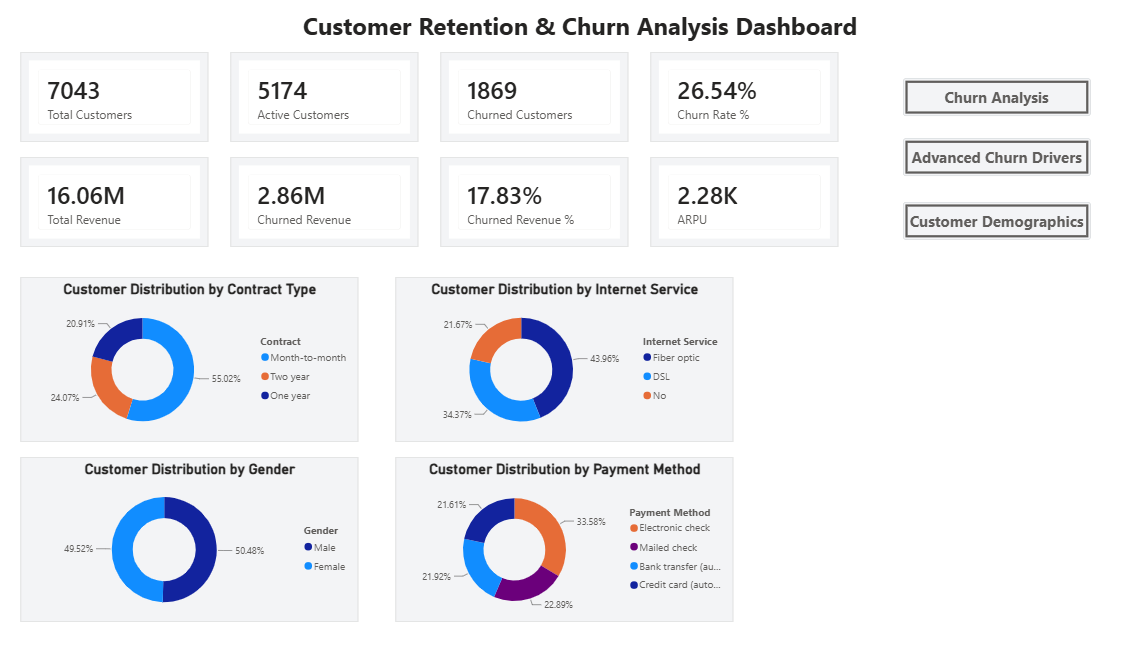

Layout of this report page (visuals, bound fields, positions):
{"tool":"powerbi","page":{"name":"Executive Overview","canvas":[1600,900],"ordinal":0},"visuals":[{"type":"cardVisual","fields":{"Data":["Measures (2).Total Customers"]},"box":[50,80,250,120],"z":0},{"type":"cardVisual","fields":{"Data":["Measures (2).Active Customers"]},"box":[330,80,250,120],"z":1000},{"type":"cardVisual","fields":{"Data":["Measures (2).Churned Customers"]},"box":[610,80,250,120],"z":2000},{"type":"cardVisual","fields":{"Data":["Measures (2).Churn Rate %"]},"box":[890,80,250,120],"z":3000},{"type":"cardVisual","fields":{"Data":["Measures (2).Total Revenue"]},"box":[50,220,250,120],"z":4000},{"type":"cardVisual","fields":{"Data":["Measures (2).Churned Revenue"]},"box":[330,220,250,120],"z":5000},{"type":"cardVisual","fields":{"Data":["Measures (2).Churned Revenue %"]},"box":[610,220,250,120],"z":6000},{"type":"cardVisual","fields":{"Data":["Measures (2).ARPU"]},"box":[890,220,250,120],"z":7000},{"type":"textbox","box":[37.7,18.9,1524.9,53.2],"z":8000},{"type":"donutChart","title":"Customer Distribution by Contract Type","fields":{"Category":["Customer Churn.Contract"],"Y":["CountNonNull(Customer Churn.CustomerID)"]},"box":[50,380,450,220],"z":9000},{"type":"donutChart","title":"Customer Distribution by Internet Service","fields":{"Category":["Customer Churn.Internet Service"],"Y":["CountNonNull(Customer Churn.CustomerID)"]},"box":[550,380,450,220],"z":10000},{"type":"donutChart","title":"Customer Distribution by Gender","fields":{"Category":["Customer Churn.Gender"],"Y":["CountNonNull(Customer Churn.CustomerID)"]},"box":[50,620,450,220],"z":11000},{"type":"donutChart","title":"Customer Distribution by Payment Method","fields":{"Category":["Customer Churn.Payment Method"],"Y":["CountNonNull(Customer Churn.CustomerID)"]},"box":[550,620,450,220],"z":12000},{"type":"actionButton","box":[1226.7,115,250,50],"z":12001},{"type":"actionButton","box":[1226.7,195,250,50],"z":12002},{"type":"actionButton","box":[1226.7,280,250,50],"z":12003}]}

Visuals, with their boxes in screenshot pixels (x1, y1, x2, y2), scaled from the page's 1600x900 canvas onto the 1125x647 screenshot:
cardVisual - Measures (2).Total Customers: [x1=35, y1=58, x2=211, y2=144]
cardVisual - Measures (2).Active Customers: [x1=232, y1=58, x2=408, y2=144]
cardVisual - Measures (2).Churned Customers: [x1=429, y1=58, x2=605, y2=144]
cardVisual - Measures (2).Churn Rate %: [x1=626, y1=58, x2=802, y2=144]
cardVisual - Measures (2).Total Revenue: [x1=35, y1=158, x2=211, y2=244]
cardVisual - Measures (2).Churned Revenue: [x1=232, y1=158, x2=408, y2=244]
cardVisual - Measures (2).Churned Revenue %: [x1=429, y1=158, x2=605, y2=244]
cardVisual - Measures (2).ARPU: [x1=626, y1=158, x2=802, y2=244]
textbox: [x1=27, y1=14, x2=1099, y2=52]
"Customer Distribution by Contract Type" donutChart: [x1=35, y1=273, x2=352, y2=431]
"Customer Distribution by Internet Service" donutChart: [x1=387, y1=273, x2=703, y2=431]
"Customer Distribution by Gender" donutChart: [x1=35, y1=446, x2=352, y2=604]
"Customer Distribution by Payment Method" donutChart: [x1=387, y1=446, x2=703, y2=604]
actionButton: [x1=863, y1=83, x2=1038, y2=119]
actionButton: [x1=863, y1=140, x2=1038, y2=176]
actionButton: [x1=863, y1=201, x2=1038, y2=237]
